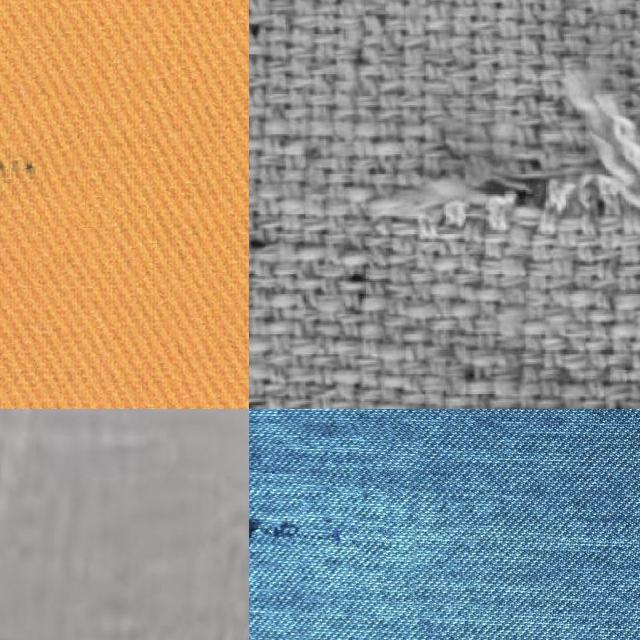Thread_other: (249, 419, 418, 597), (135, 413, 249, 640), (0, 79, 114, 226)
seam: (386, 76, 640, 271), (610, 370, 640, 409)
